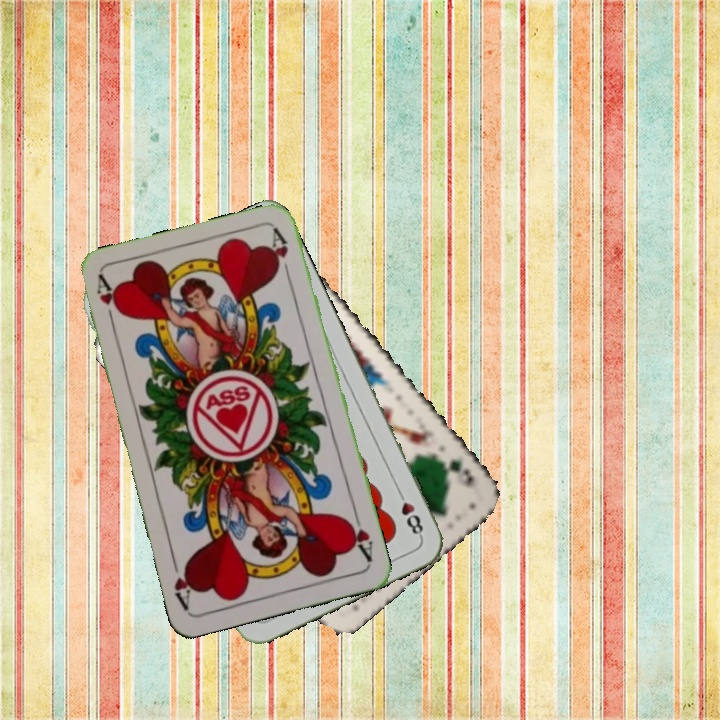GK: (433, 451, 477, 490)
H8: (392, 485, 426, 540)
HA: (342, 506, 375, 564), (92, 273, 125, 331)
